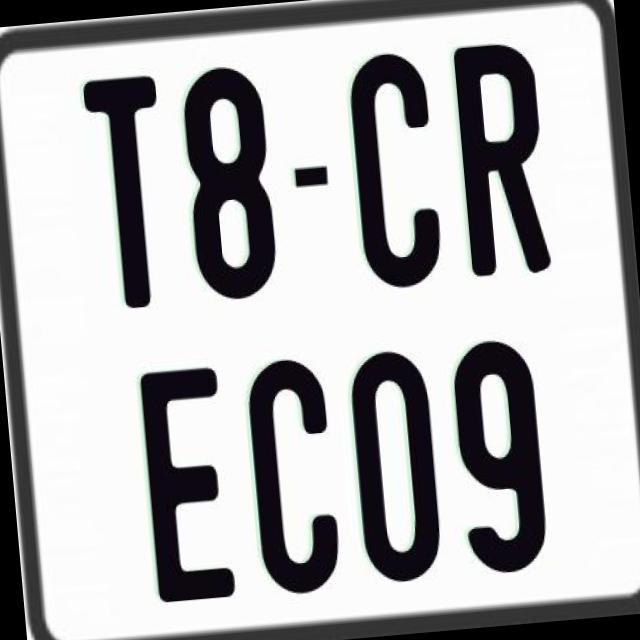0: (346, 346, 444, 589)
8: (179, 61, 284, 308)
9: (449, 332, 551, 576)
C: (342, 47, 441, 290), (241, 354, 341, 594)
E: (134, 361, 234, 598)
R: (452, 36, 556, 276)
T: (80, 72, 176, 312)
